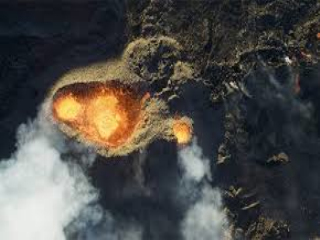smoke: (2, 125, 98, 232), (171, 144, 236, 239)
